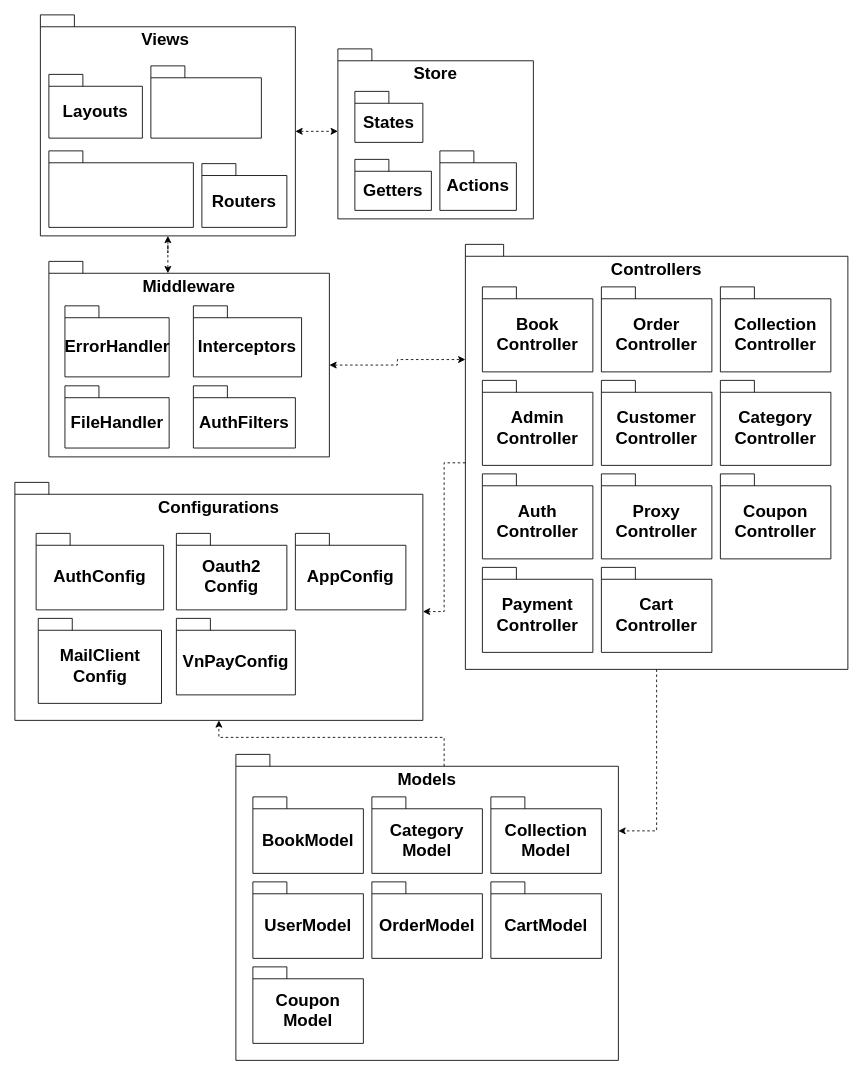
This 863x1075 diagram has some shape labels left out. Here are the shapes that lost their labels. From the top down, the centre of each, then its label:
At point 205,101: "Components".
At point 120,188: "ServiceRequest".
